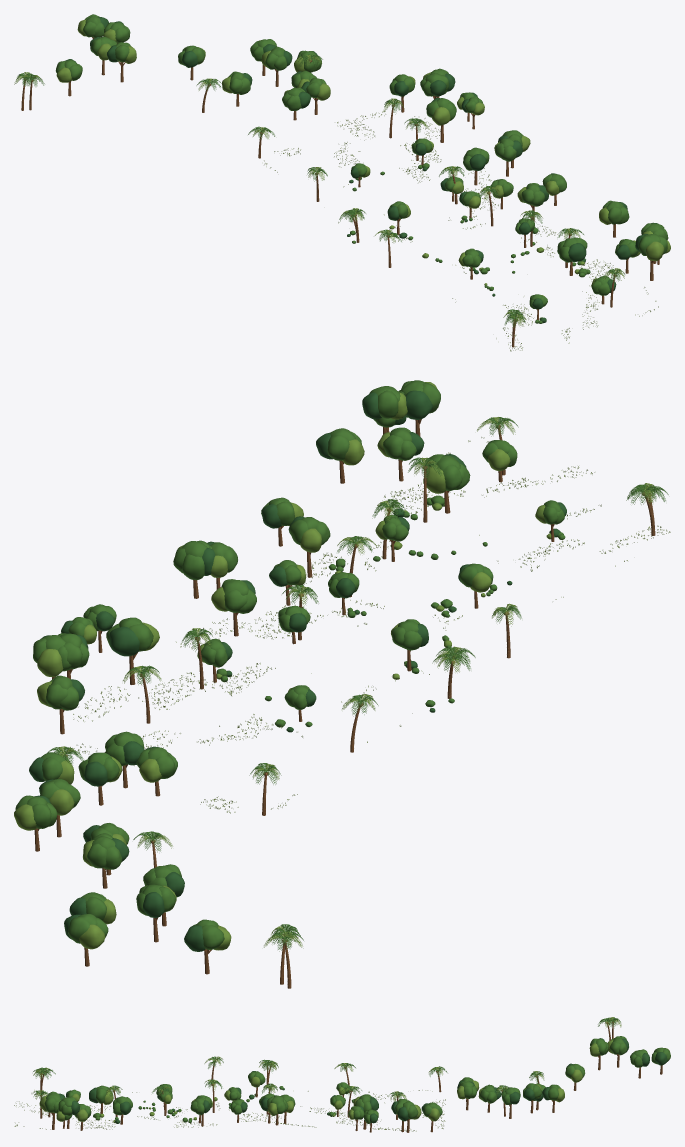
Rendered from foliage.glb.
The picture shows the model from 3 angles, top to bottom: view 1: azimuth 30°, elevation 25°; view 2: azimuth 150°, elevation 25°; view 3: azimuth 270°, elevation 25°; orthographic projection. The views are drawn at different scales.
Visible parts, largest first — view 1: Leaf_Ref_D19_Foliage0, Leaf_Ref_D19_Foliage1, Leaf_Ref_D19_Foliage2, Solid_Ref_D19_Trunk, Leaf_Ref_L24_GrassGrowth, Solid_Ref_D19_Foliage0; view 2: Leaf_Ref_D19_Foliage0, Leaf_Ref_D19_Foliage1, Leaf_Ref_D19_Foliage2, Solid_Ref_D19_Trunk, Leaf_Ref_L24_GrassGrowth, Solid_Ref_D19_Foliage0; view 3: Leaf_Ref_D19_Foliage0, Leaf_Ref_D19_Foliage1, Leaf_Ref_D19_Foliage2, Solid_Ref_D19_Trunk, Leaf_Ref_L24_GrassGrowth, Solid_Ref_D19_Foliage0.
Part boxes in pixels (x1,y1,x2,y2): Leaf_Ref_D19_Foliage0: [17, 14, 668, 327]; Leaf_Ref_D19_Foliage1: [14, 19, 670, 325]; Leaf_Ref_D19_Foliage2: [65, 16, 658, 309]; Solid_Ref_D19_Trunk: [21, 37, 659, 347]; Leaf_Ref_L24_GrassGrowth: [264, 111, 658, 351]; Solid_Ref_D19_Foliage0: [350, 163, 590, 323]; Leaf_Ref_D19_Foliage0: [15, 380, 668, 951]; Leaf_Ref_D19_Foliage1: [14, 382, 658, 950]; Leaf_Ref_D19_Foliage2: [29, 390, 566, 951]; Solid_Ref_D19_Trunk: [34, 419, 655, 988]; Leaf_Ref_L24_GrassGrowth: [70, 437, 670, 813]; Solid_Ref_D19_Foliage0: [216, 495, 565, 727]; Leaf_Ref_D19_Foliage0: [33, 1017, 670, 1123]; Leaf_Ref_D19_Foliage1: [33, 1017, 670, 1121]; Leaf_Ref_D19_Foliage2: [58, 1038, 667, 1123]; Solid_Ref_D19_Trunk: [40, 1023, 662, 1132]; Leaf_Ref_L24_GrassGrowth: [14, 1090, 445, 1131]; Solid_Ref_D19_Foliage0: [93, 1086, 354, 1122].
Size of the model in its own units: 52.11 by 12.17 by 122.
6 materials, 5 textured.
